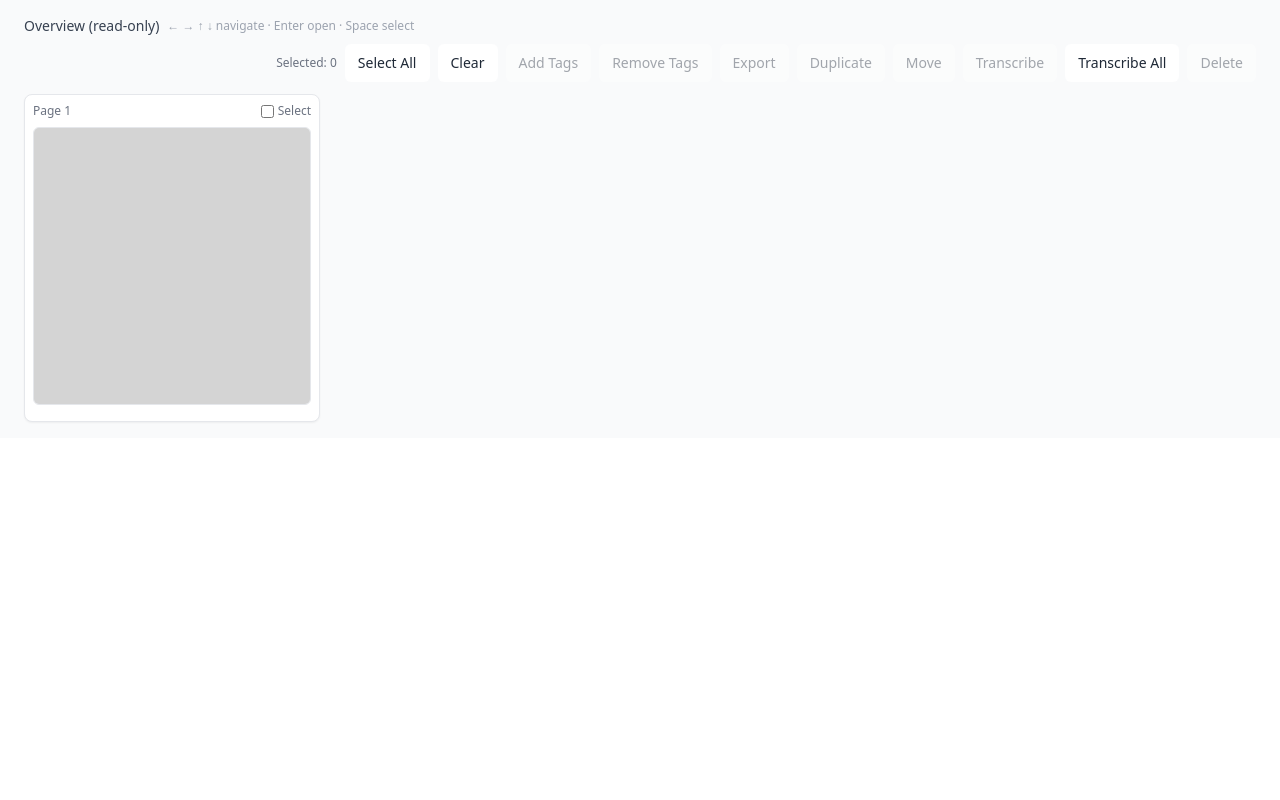
Test: OverviewView - Tag Dialog › opens Remove Tags dialog when Remove Tags is clicked
Click the checkbox: (267, 111) [261,104,274,118]
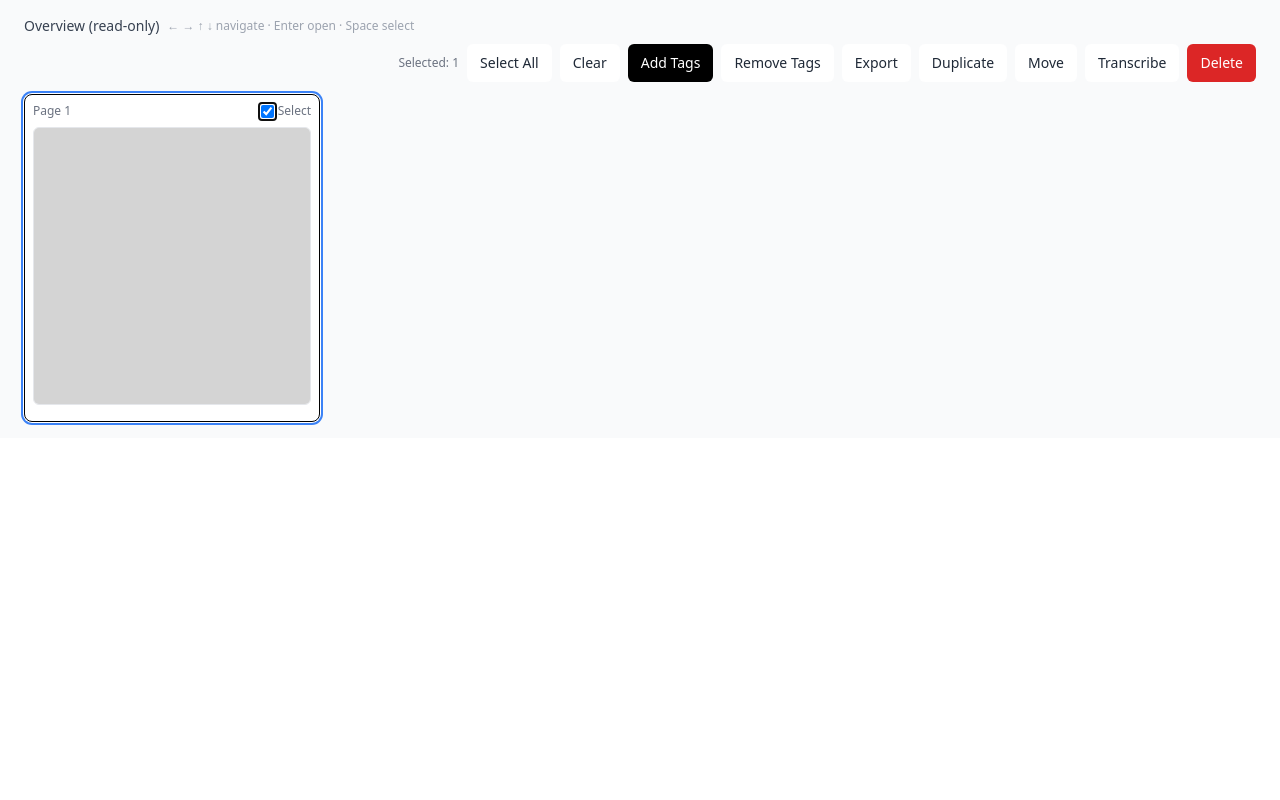
Click the button "Remove Tags": (778, 63) [721,44,834,82]
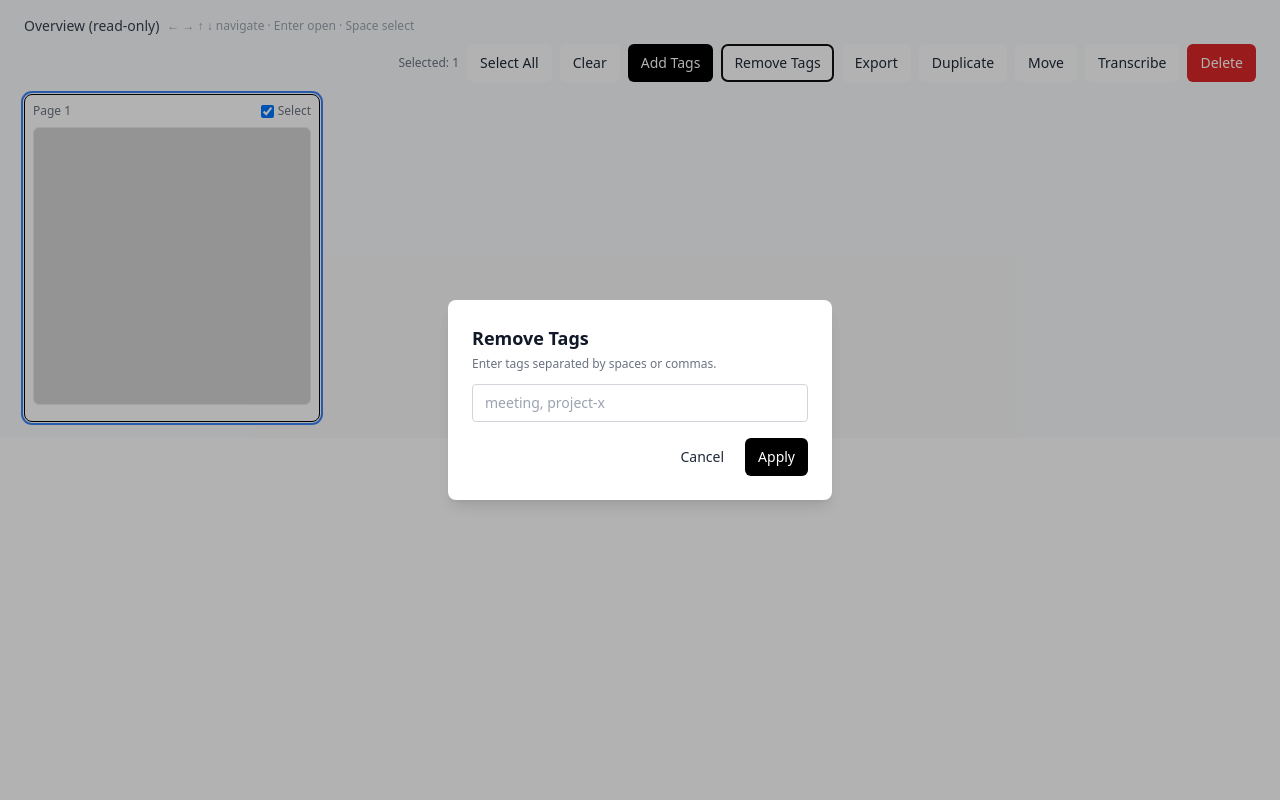
Result: the heading "Remove Tags" is shown at [472,326,589,350]
